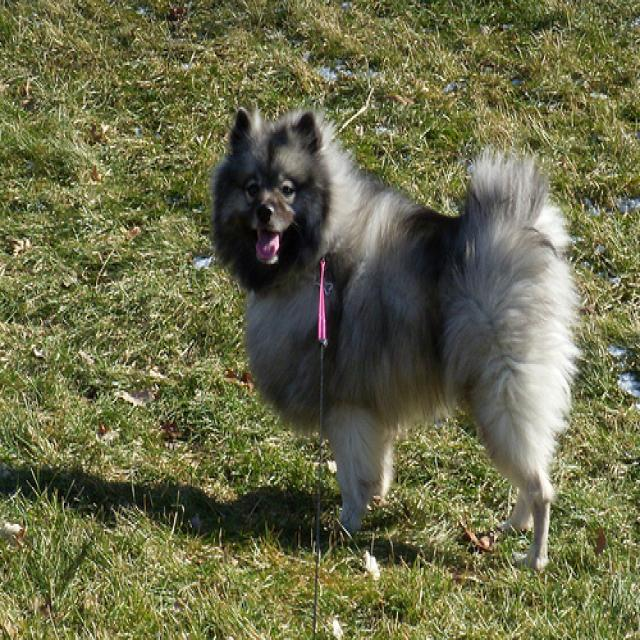dog-keeshond: (196, 95, 589, 578)
